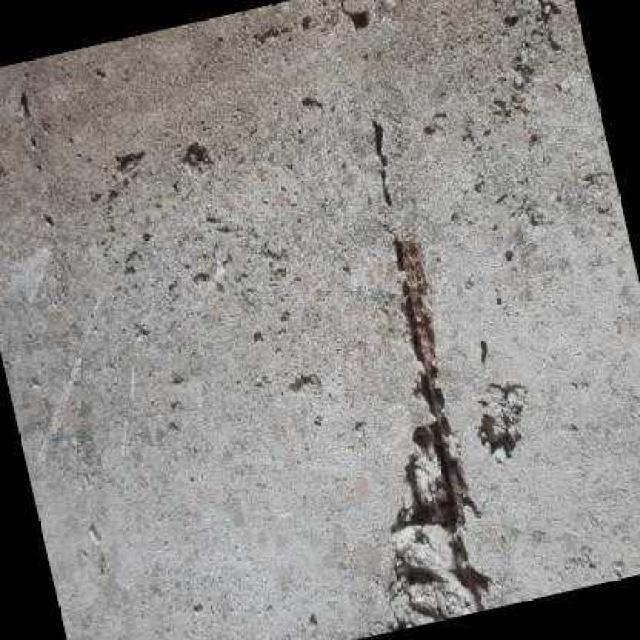D00: (389, 227, 461, 532)
